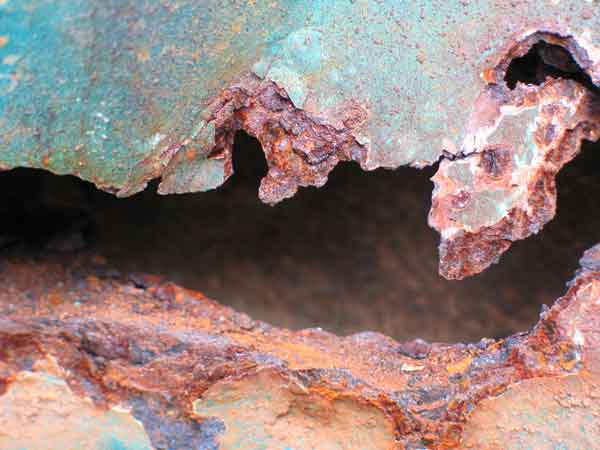rust: (20, 278, 239, 404), (209, 81, 364, 199), (349, 332, 556, 405)
